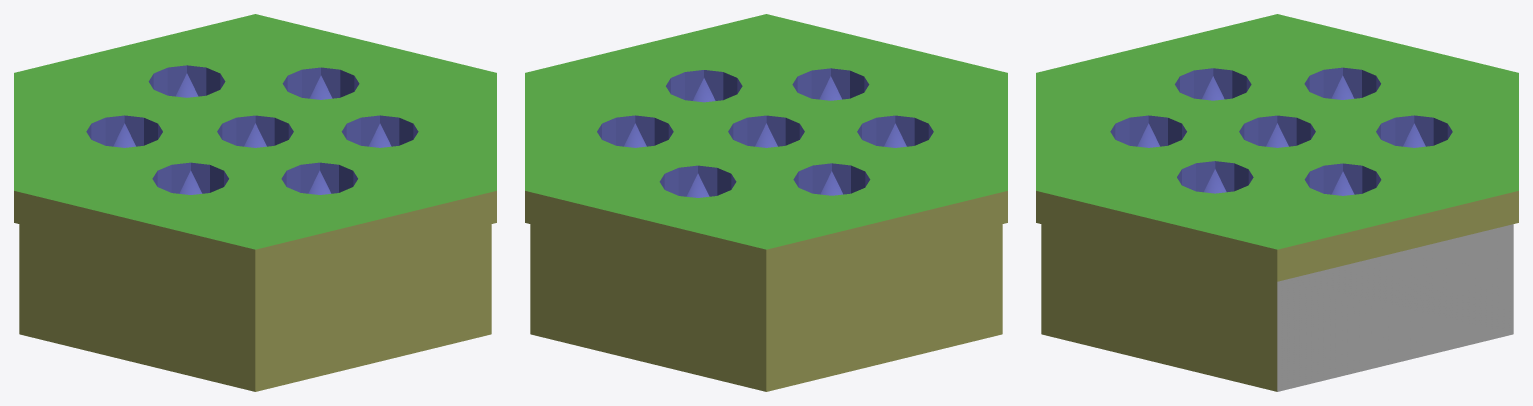
The model's file is Spike_Tile_Down.fbx.
3 renders of one model, left to right at view 1: azimuth 30°, elevation 25°; view 2: azimuth 150°, elevation 25°; view 3: azimuth 270°, elevation 25°, orthographic.
Parts seen in each view (by area): view 1: pCylinder18; view 2: pCylinder18; view 3: pCylinder18.
Boxes of the visible parts, x1=… form: pCylinder18: x1=14, y1=14, x2=496, y2=391; pCylinder18: x1=525, y1=14, x2=1007, y2=391; pCylinder18: x1=1036, y1=14, x2=1518, y2=391.
Bounding box in the file's own units: 9.25 × 2.81 × 8.01.
